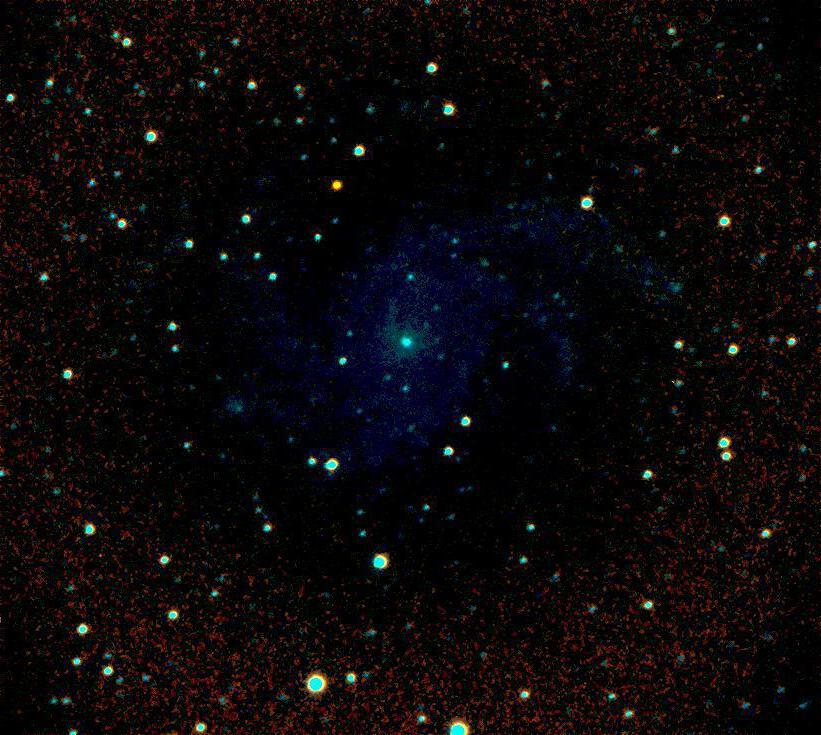star: (319, 170, 349, 200)
